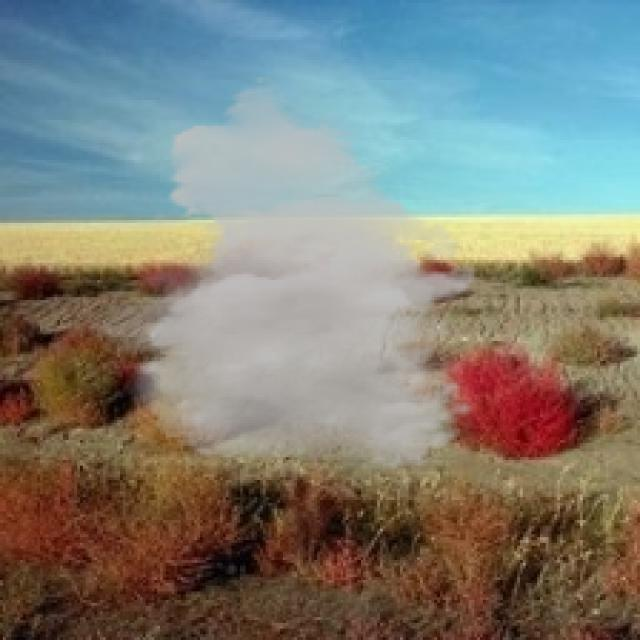Smoke: (83, 74, 480, 472)
